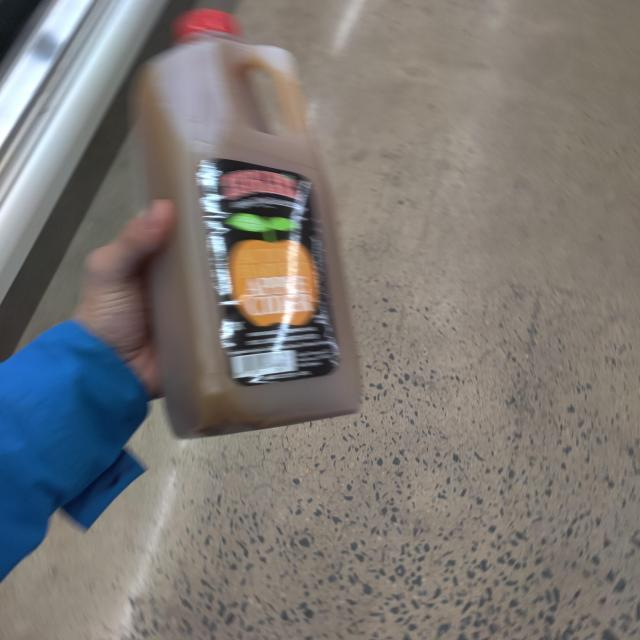Juice: (139, 9, 366, 436)
